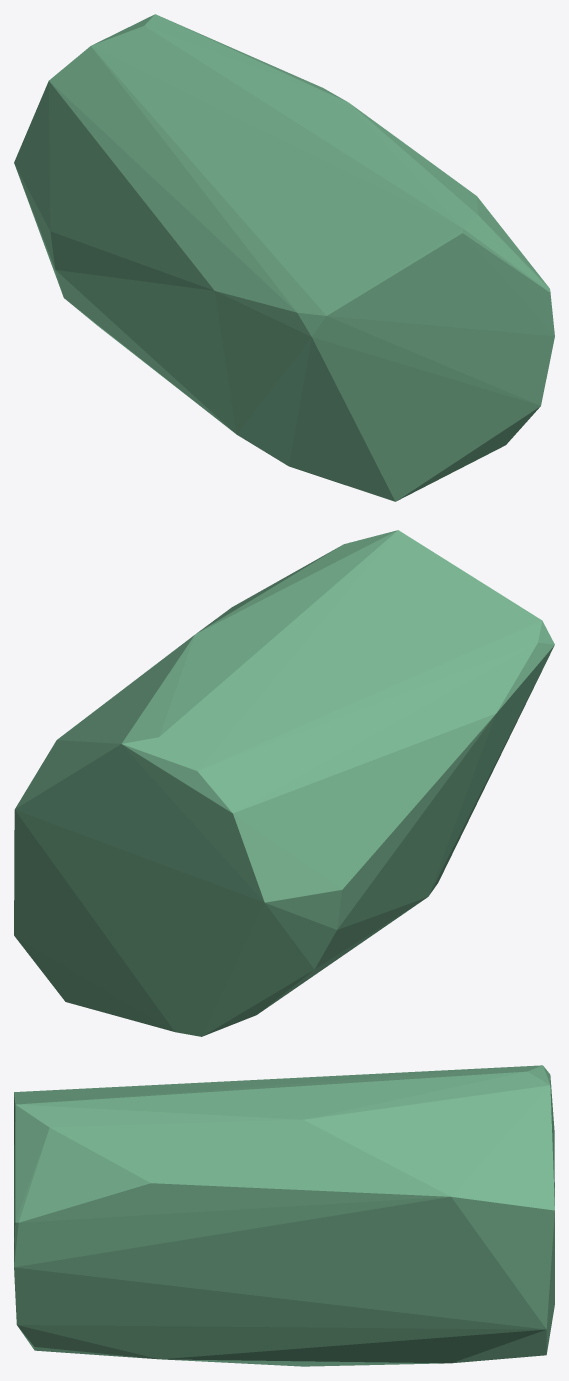
Rendered from container_jar_glass_gold_a02.glb.
The picture shows the model from 3 angles, top to bottom: view 1: azimuth 30°, elevation 25°; view 2: azimuth 150°, elevation 25°; view 3: azimuth 270°, elevation 25°; orthographic projection. The views are drawn at different scales.
Parts seen in each view (by area): view 1: geometry_0; view 2: geometry_0; view 3: geometry_0.
Part boxes in pixels (x1,y1,x2,y2): geometry_0: (14, 14, 554, 501); geometry_0: (14, 530, 554, 1036); geometry_0: (14, 1065, 554, 1366).
Bounding box in the file's own units: 0.2614 × 0.2691 × 0.4797.
